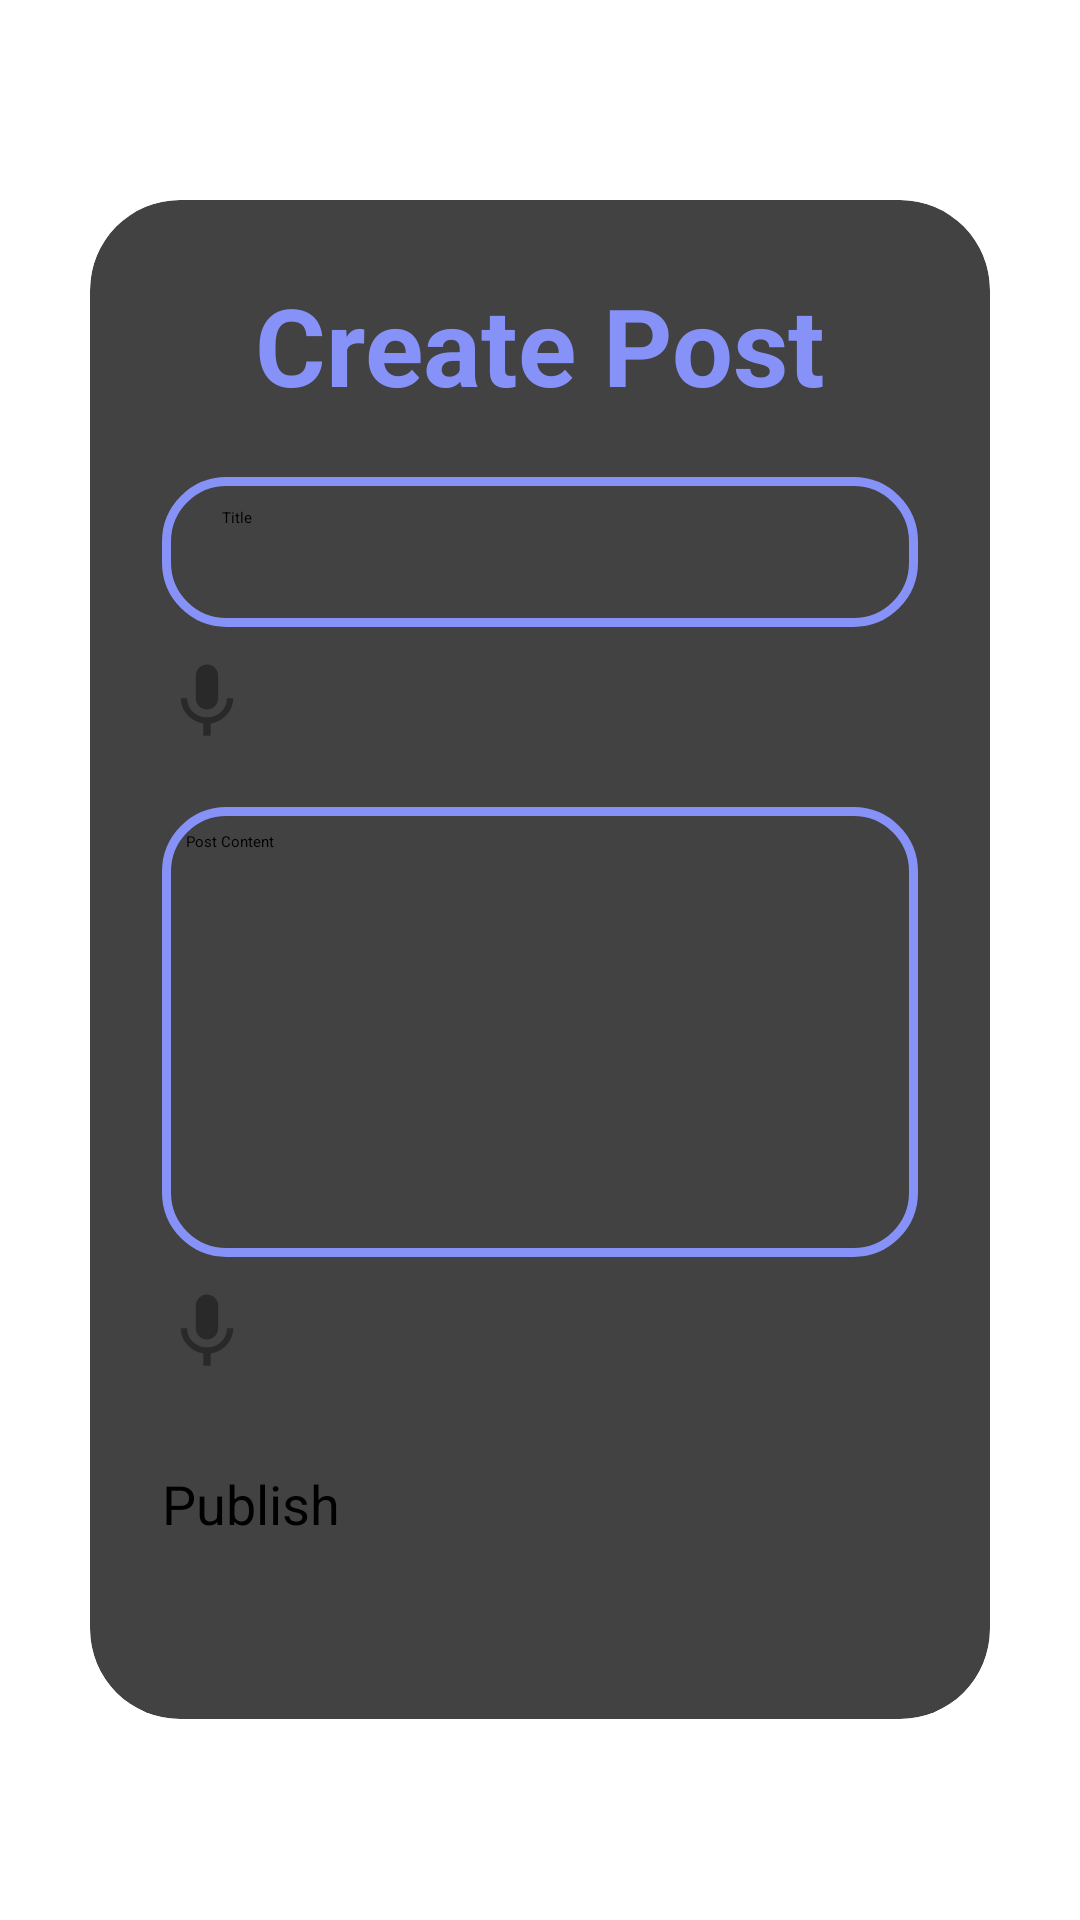

Where to tap for icons on this 1080px×1920px app screen, as point (x, y):
mic: point (207, 700), point (207, 1330)
